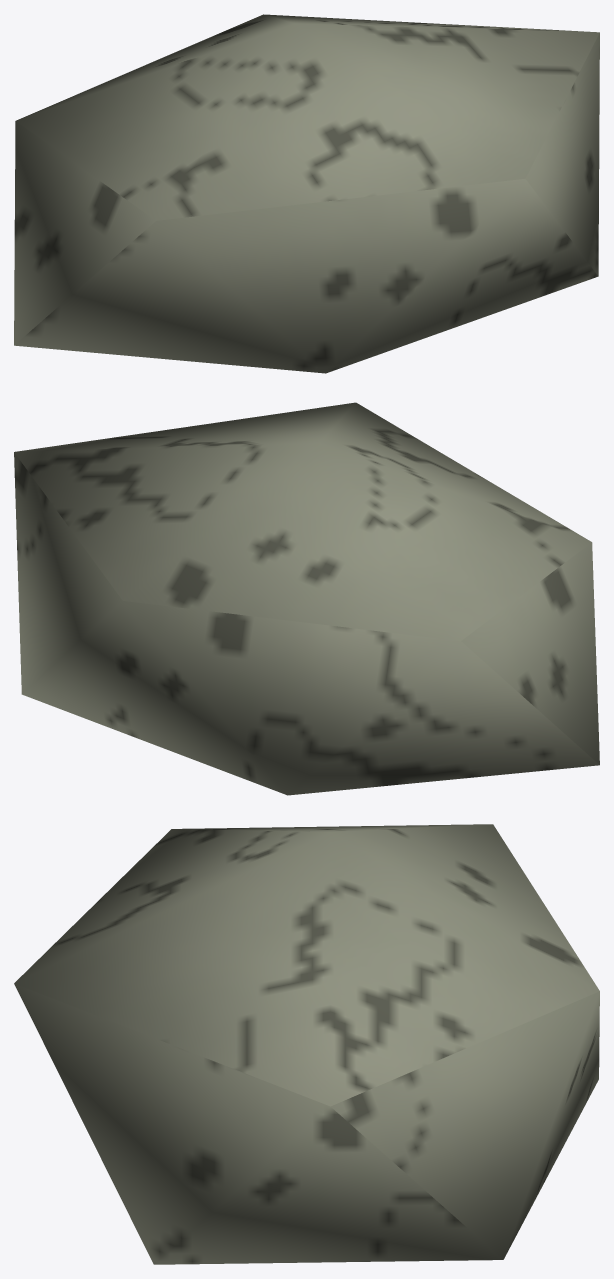
File: Rock_Pebble.fbx
3 renders of one model, top to bottom at view 1: azimuth 30°, elevation 25°; view 2: azimuth 150°, elevation 25°; view 3: azimuth 270°, elevation 25°, orthographic. The views are drawn at different scales.
Parts seen in each view (by area): view 1: Rock_Pebble.001; view 2: Rock_Pebble.001; view 3: Rock_Pebble.001.
Boxes of the visible parts, box(x1,y1,x2,y2) form: Rock_Pebble.001: box(14, 14, 599, 373); Rock_Pebble.001: box(14, 402, 599, 795); Rock_Pebble.001: box(14, 824, 599, 1264).
Bounding box in the file's own units: 0.1719 × 0.0831 × 0.1259.
